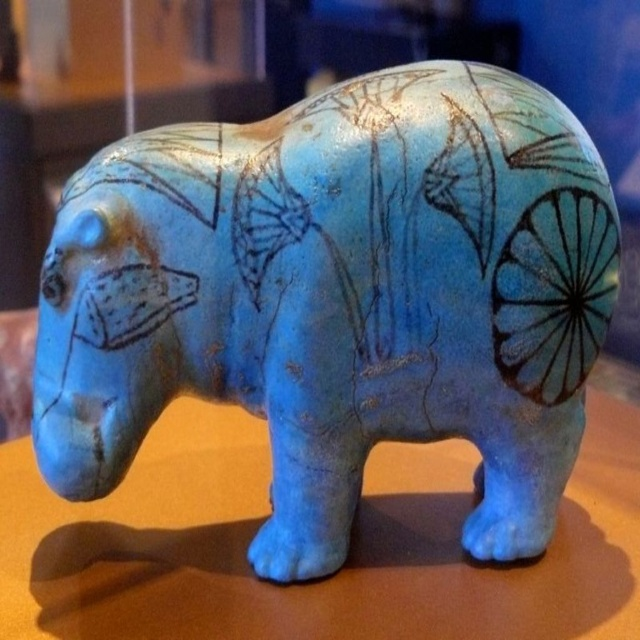Hippopotamus: (28, 57, 626, 591)
